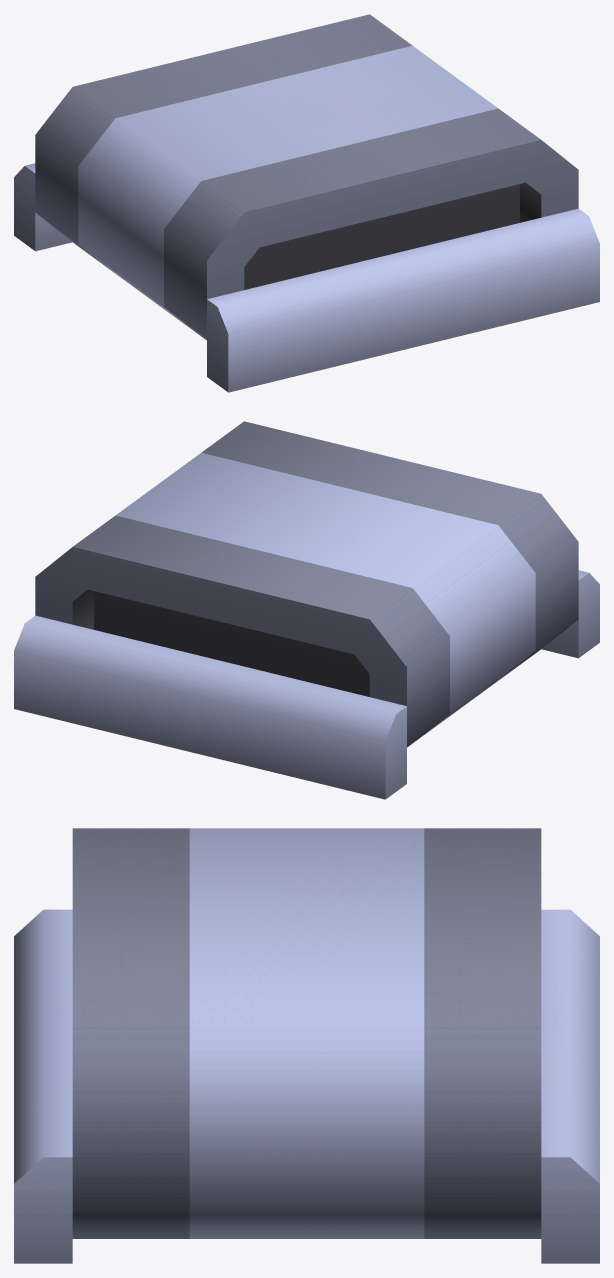
Rendered from conveyor-stripe-sides.glb.
3 views of the same model, one above another, from view 1: azimuth 30°, elevation 25°; view 2: azimuth 150°, elevation 25°; view 3: azimuth 270°, elevation 25° (orthographic). The views are drawn at different scales.
Visible parts, largest first — view 1: Group.001, Group; view 2: Group.001, Group; view 3: Group.001, Group.
Part boxes in pixels (box(x1,y1,x2,y2)): Group.001: box(35, 14, 578, 340); Group: box(14, 163, 599, 392); Group.001: box(35, 421, 578, 747); Group: box(14, 570, 599, 799); Group.001: box(72, 828, 541, 1238); Group: box(14, 909, 599, 1263).
Size of the model in its own units: 1 by 0.4 by 1.
1 material, 1 textured.
